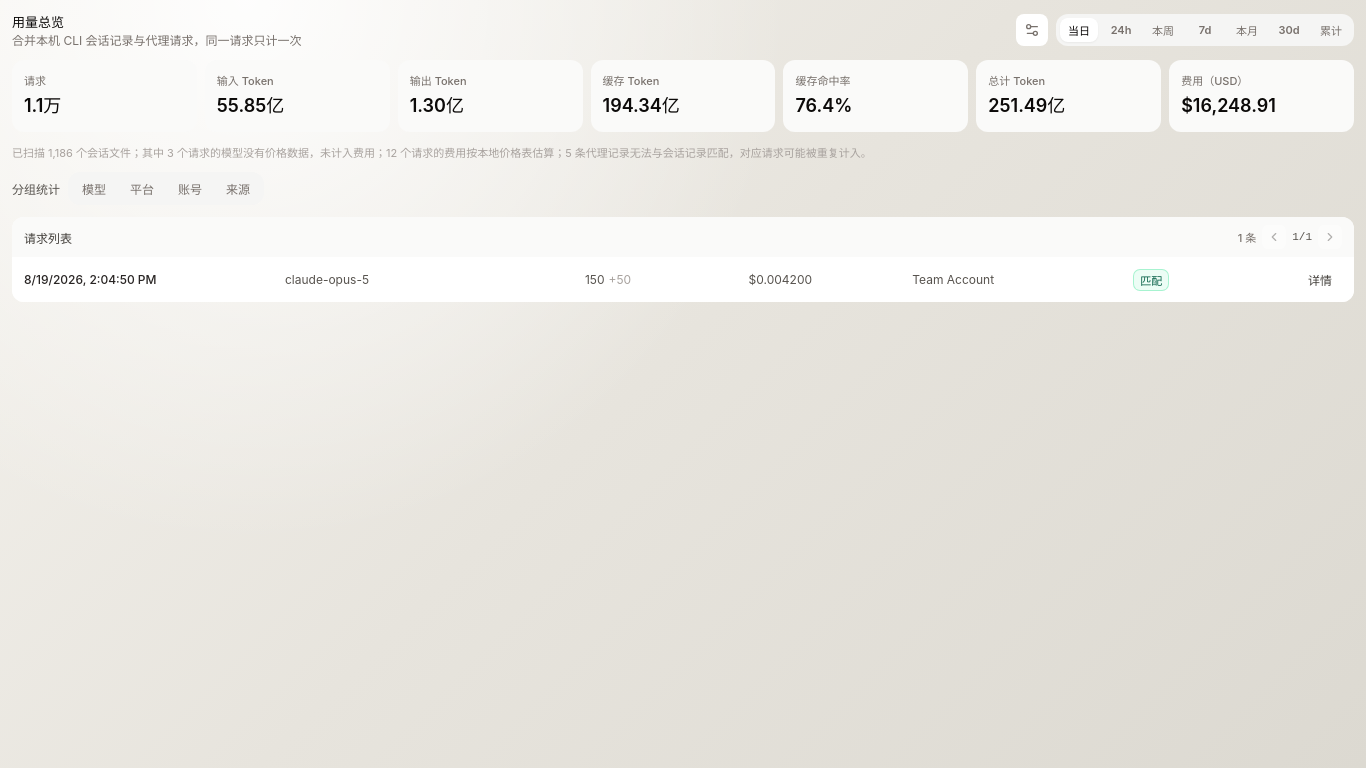
UsageOverviewPanel › draws the grouped numbers as a stacked trend chart and switches back
Expected: the text "1.1万" is shown, [24,92,61,120]
Step 1. Click the button "模型" → coordinates (94, 188), box [72,176,116,201]
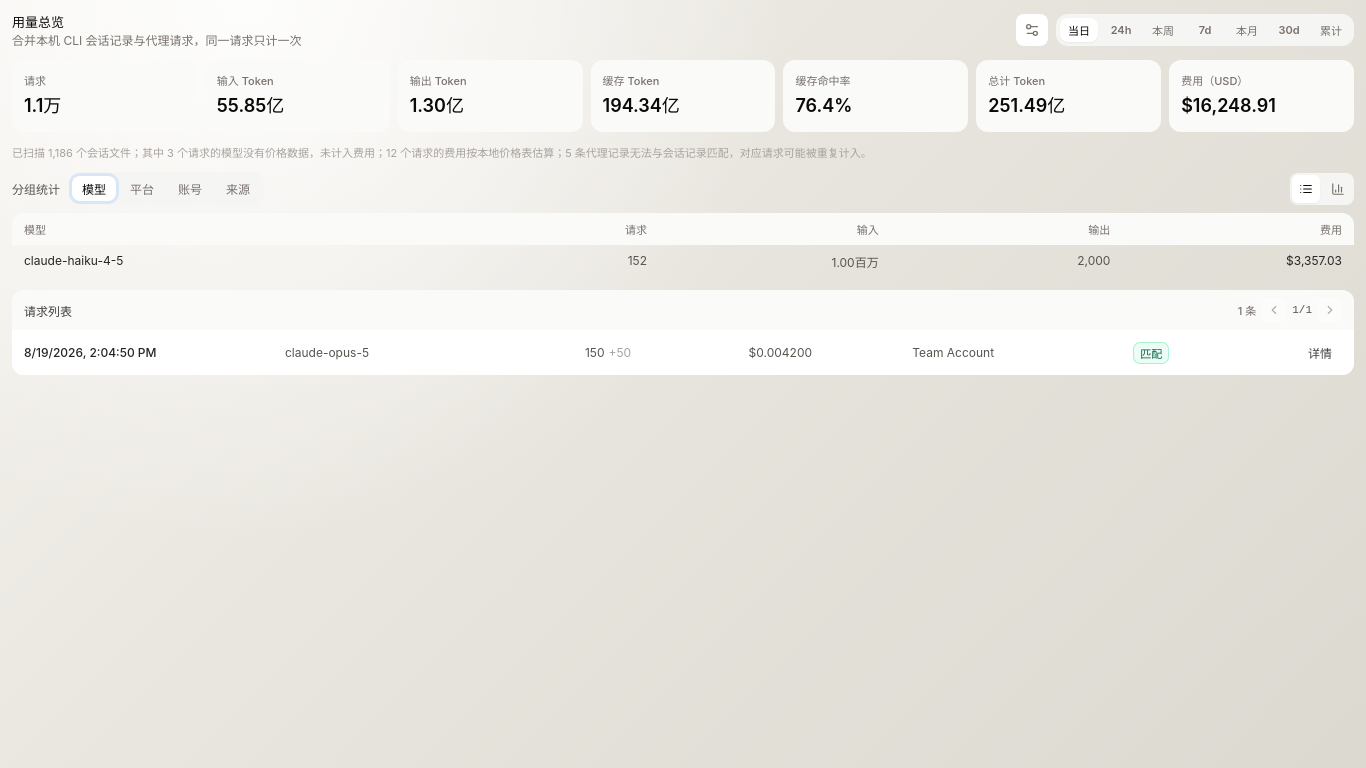
Step 2. Click the button named "图表" → coordinates (1338, 188), box [1324,174,1352,202]
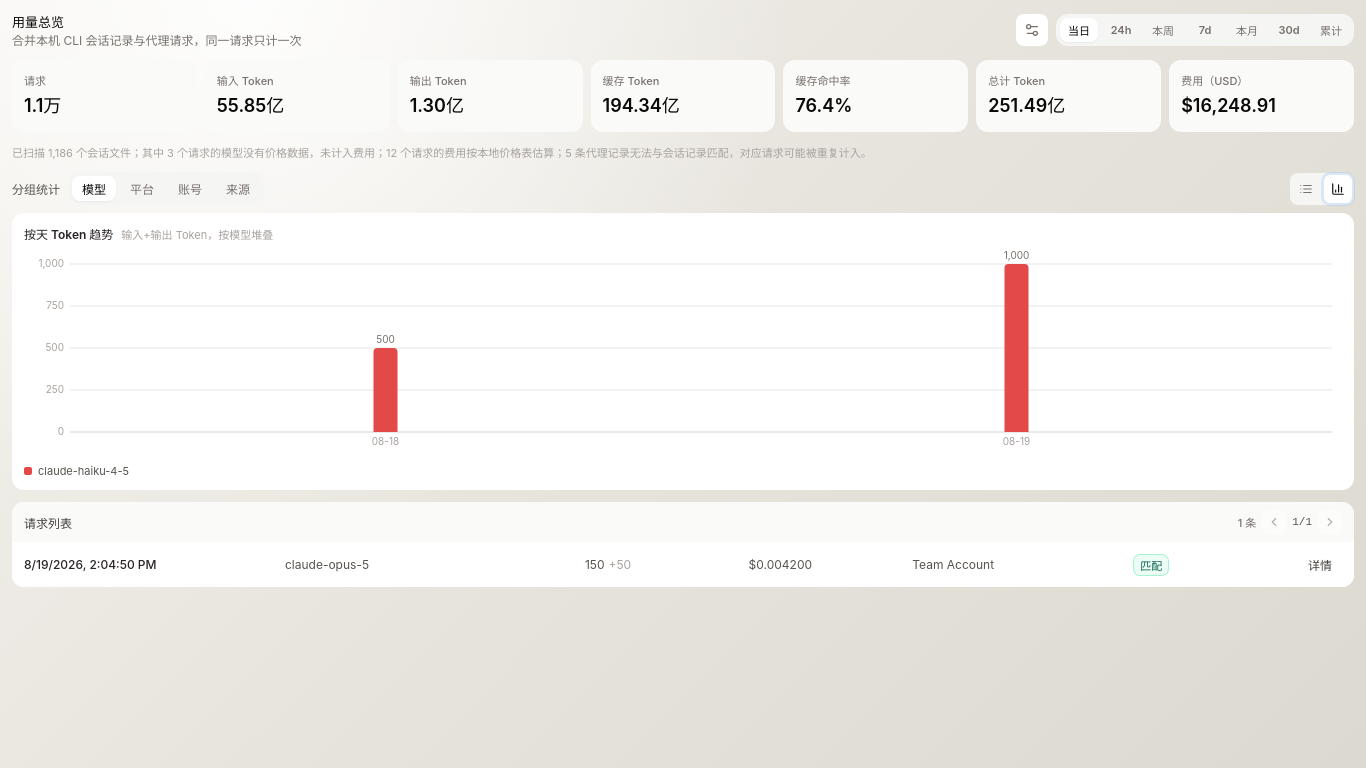
Expected: the field labelled "2026-08-19，1,000 Token" is shown, [701,246,1332,432]
Now the text "按天 Token 趋势" is shown, box [24,225,113,242]
Now the text "输入+输出 Token，按模型堆叠" is shown, box [121,226,273,242]
Step 3. Click the button named "列表" → coordinates (1306, 188), box [1292,174,1320,202]
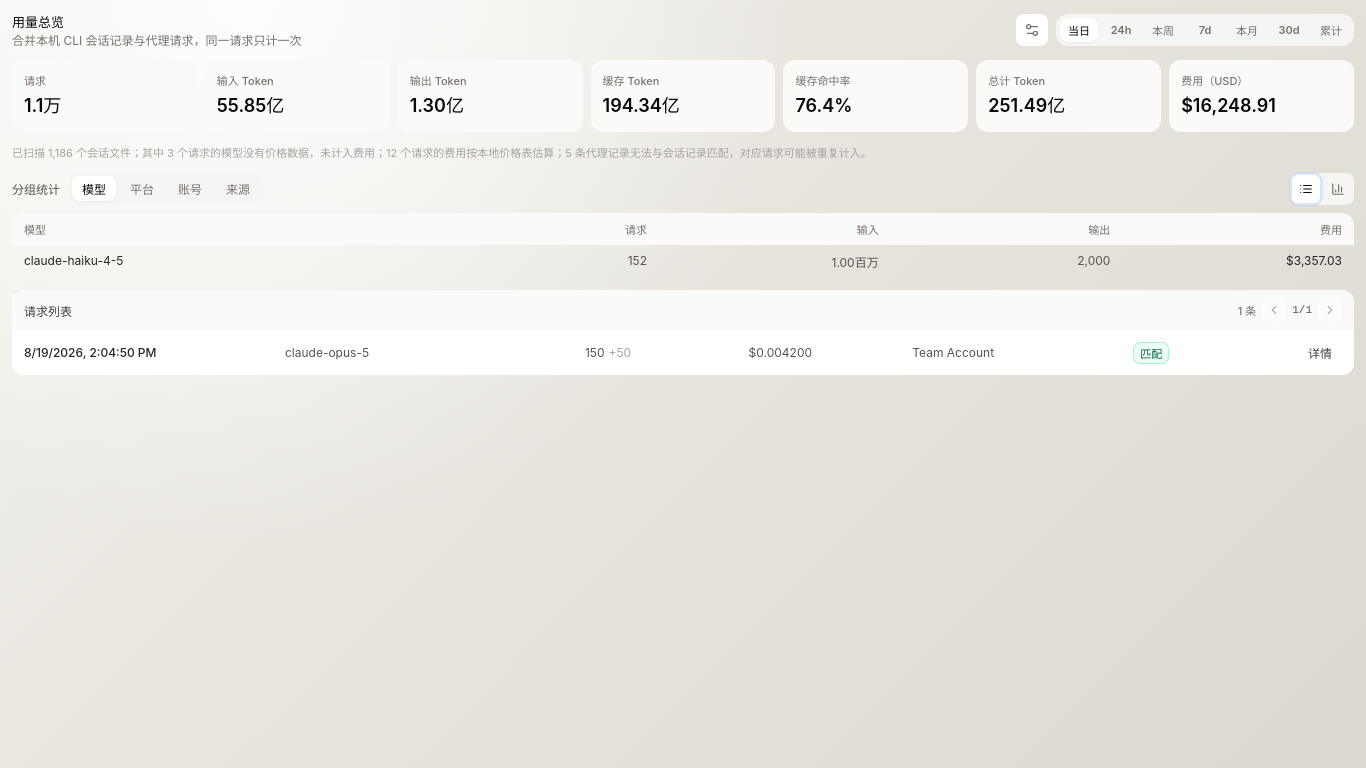
Now the text "按天 Token 趋势" is gone
